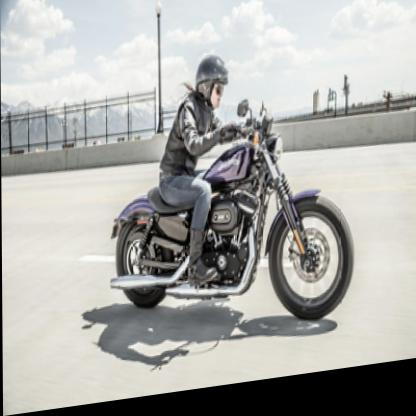With Helmet: (194, 53, 231, 124)
